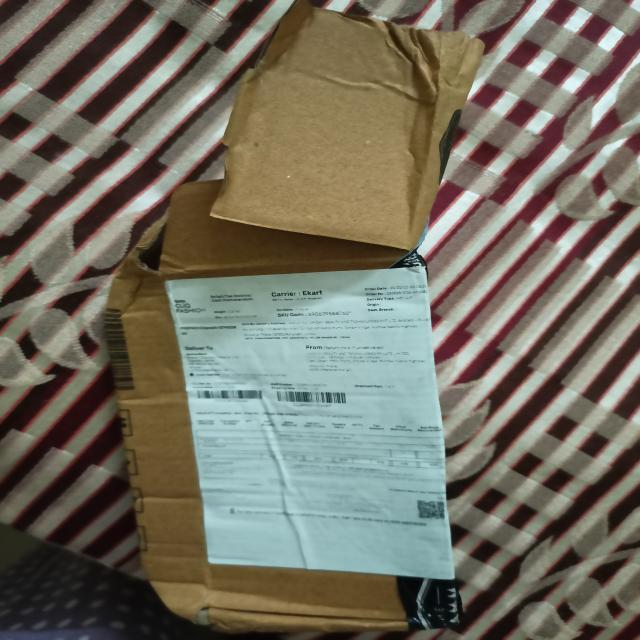cardboard_box: (69, 0, 462, 640)
